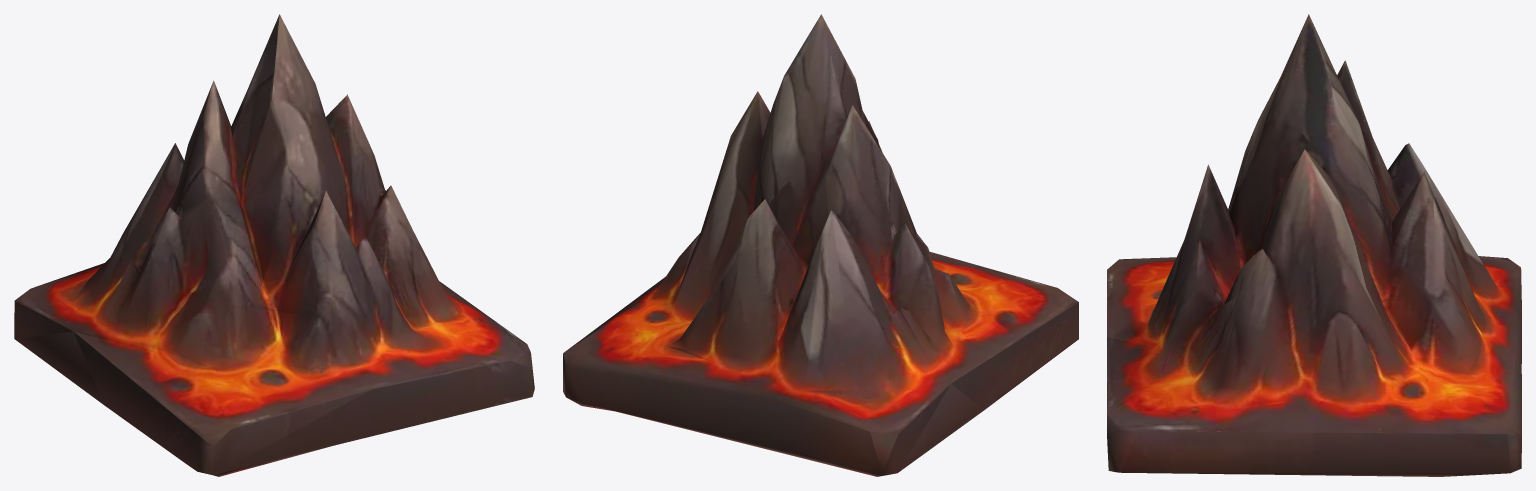
File: mtn_lava.glb
The picture shows the model from 3 angles, left to right: view 1: azimuth 30°, elevation 25°; view 2: azimuth 150°, elevation 25°; view 3: azimuth 270°, elevation 25°; orthographic projection. The views are drawn at different scales.
Parts seen in each view (by area): view 1: Lava Mountain; view 2: Lava Mountain; view 3: Lava Mountain.
Part boxes in pixels (<box>): Lava Mountain: <box>14,14,534,476</box>; Lava Mountain: <box>563,14,1078,476</box>; Lava Mountain: <box>1107,14,1521,476</box>.
Size of the model in its own units: 1.9 by 1.94 by 1.9.
1 material, 1 textured.
